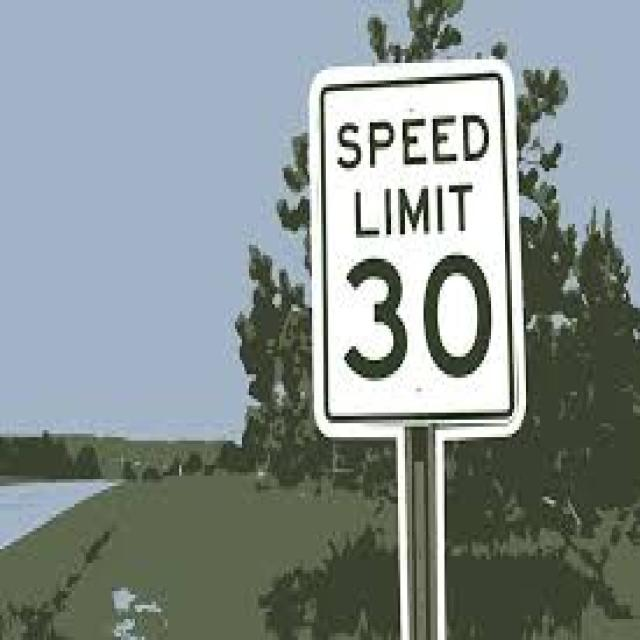speedLimit30: (302, 65, 527, 453)
